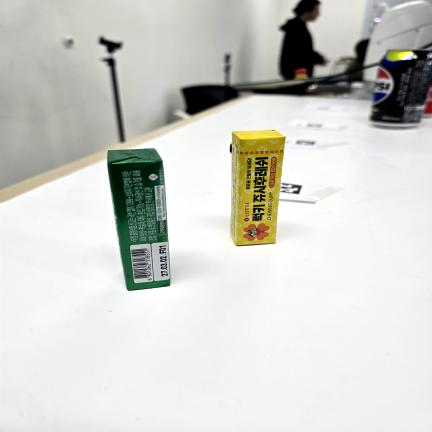gum_green: (107, 149, 170, 290)
gum_yellow: (230, 130, 285, 245)
